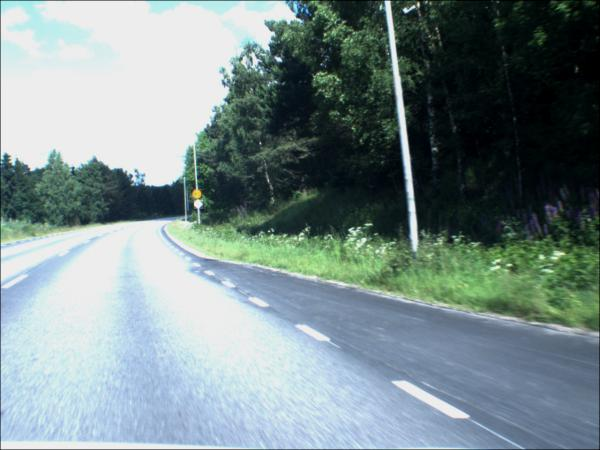80_SIGN: (192, 191, 204, 201)
PRIORITY_ROAD: (195, 201, 205, 211)
